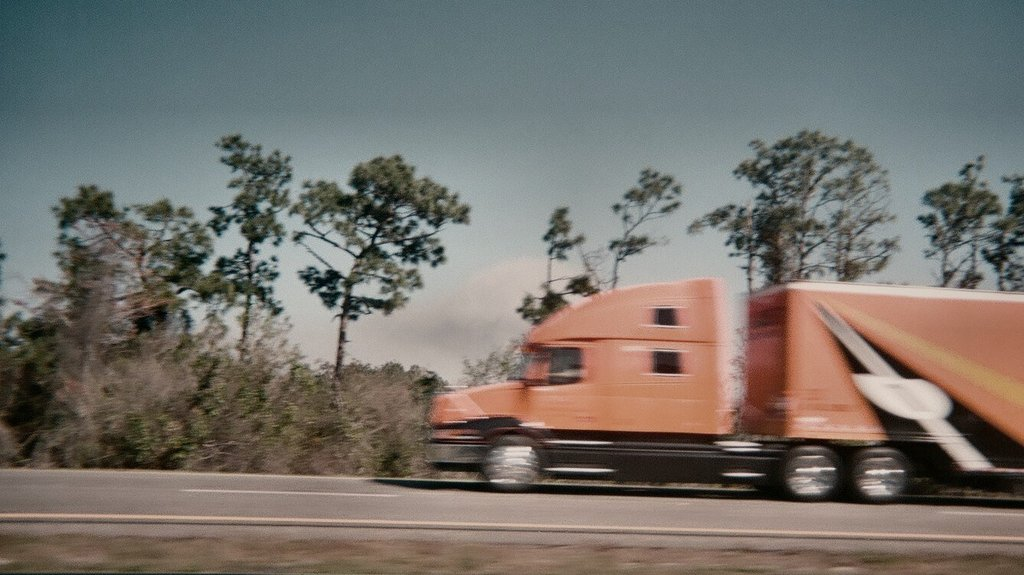truck: (394, 242, 1024, 513)
